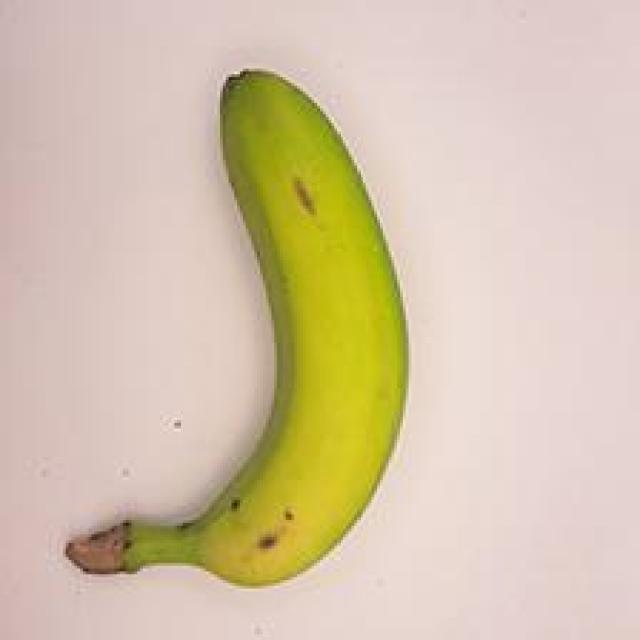Unripe: (47, 57, 447, 598)
